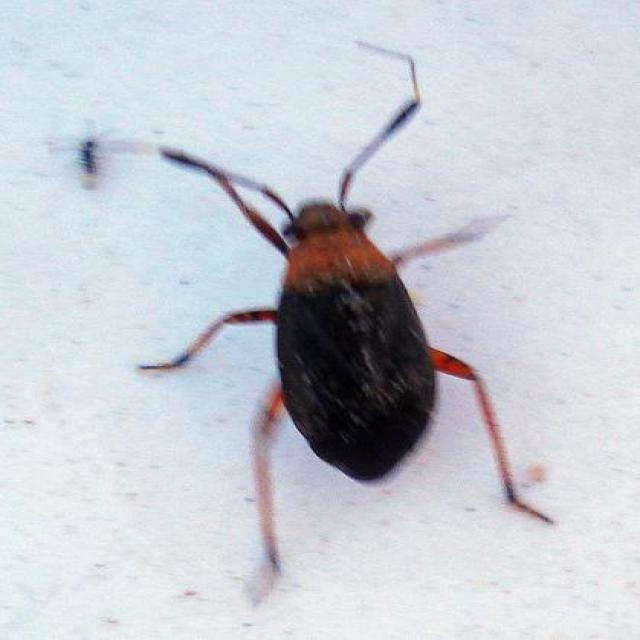Miridae-Adult-: (49, 28, 592, 574)
